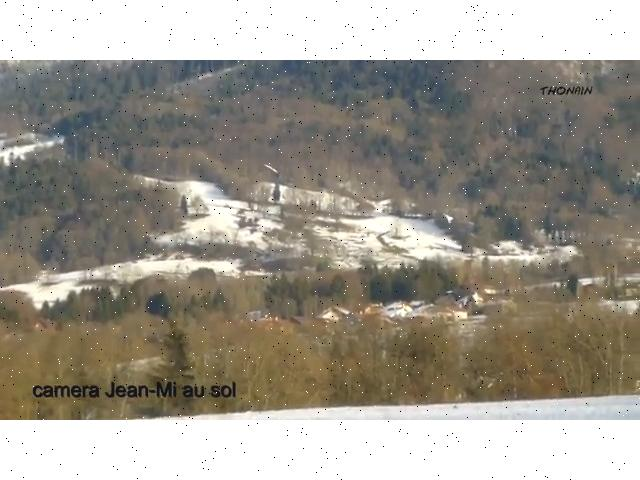Anti-Drone: (252, 160, 290, 190), (438, 206, 472, 238)
